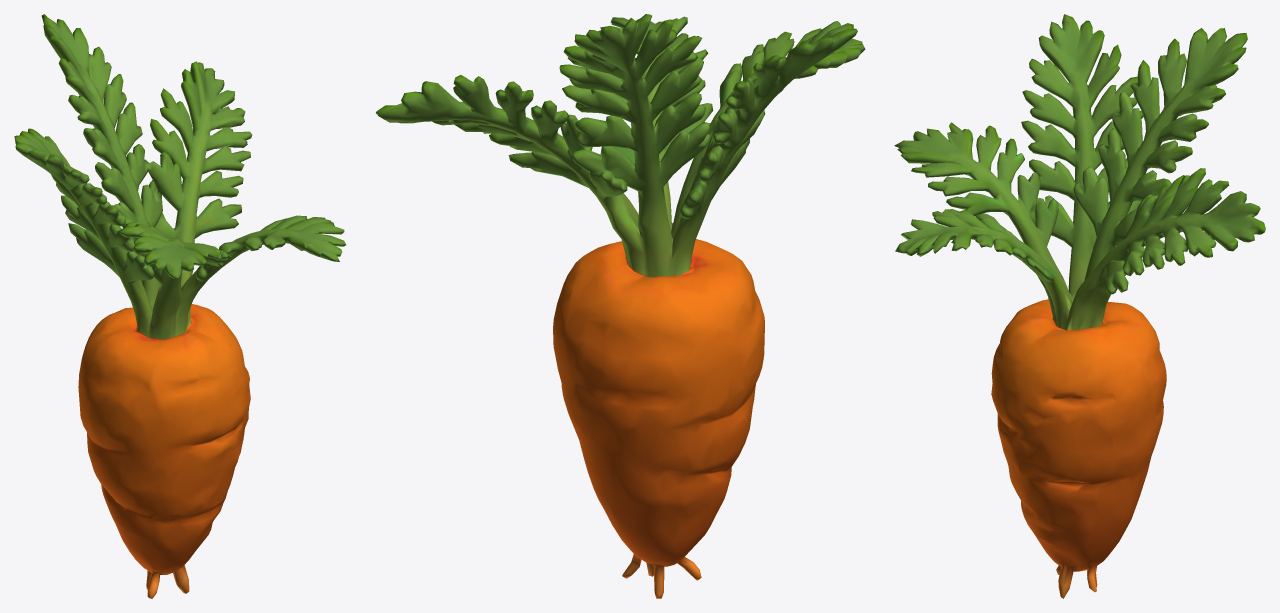
The model's file is carrot_4k.glb.
The picture shows the model from 3 angles, left to right: view 1: azimuth 30°, elevation 25°; view 2: azimuth 150°, elevation 25°; view 3: azimuth 270°, elevation 25°; orthographic projection. The views are drawn at different scales.
Visible parts, largest first — view 1: tripo_node_b251bc0d-c480-4494-8b14-11b0a0f4448c; view 2: tripo_node_b251bc0d-c480-4494-8b14-11b0a0f4448c; view 3: tripo_node_b251bc0d-c480-4494-8b14-11b0a0f4448c.
Boxes of the visible parts, box(x1,y1,x2,y2) form: tripo_node_b251bc0d-c480-4494-8b14-11b0a0f4448c: box(14, 14, 346, 598); tripo_node_b251bc0d-c480-4494-8b14-11b0a0f4448c: box(376, 14, 865, 598); tripo_node_b251bc0d-c480-4494-8b14-11b0a0f4448c: box(894, 14, 1265, 598).
Bounding box in the file's own units: 0.5859 × 0.9817 × 0.6107.
1 material, 1 textured.
